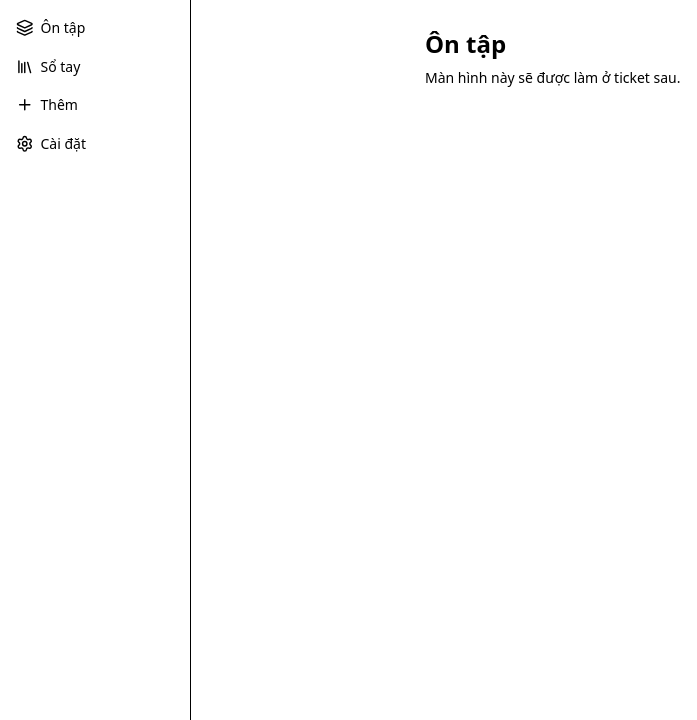
Scenario: focus after navigation (WCAG 2.4.3) › moves focus to <main> after a client-side route change
Step 1. Click the link "Sổ tay" → {"x": 48, "y": 66}, box [16,56,80,76]
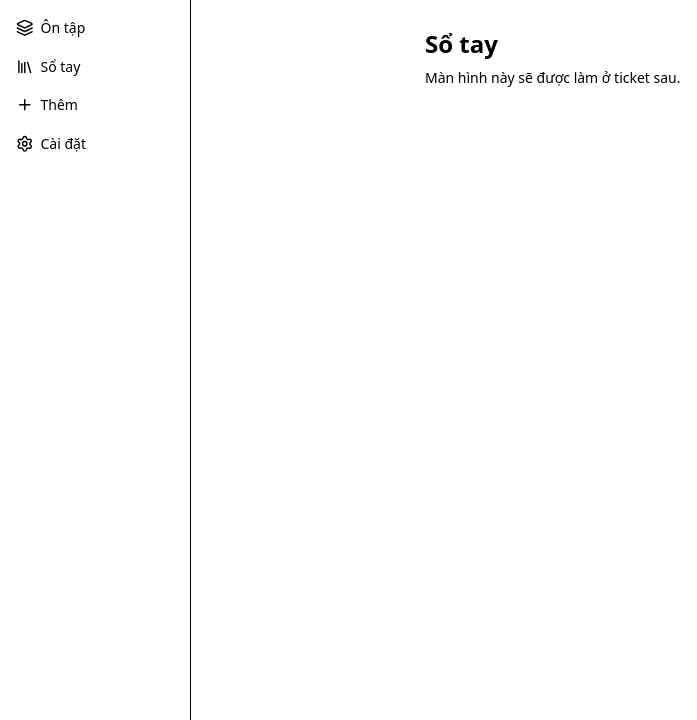
Result: the heading "Sổ tay" is shown at [425,27,498,60]
